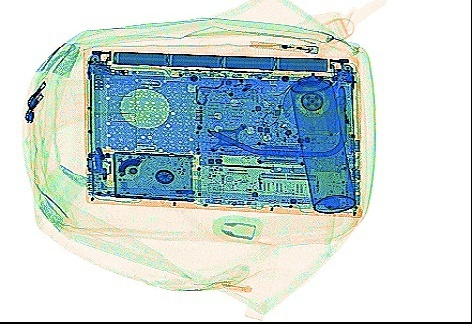lighter: (245, 37, 319, 54)
pressure: (285, 61, 357, 213)
